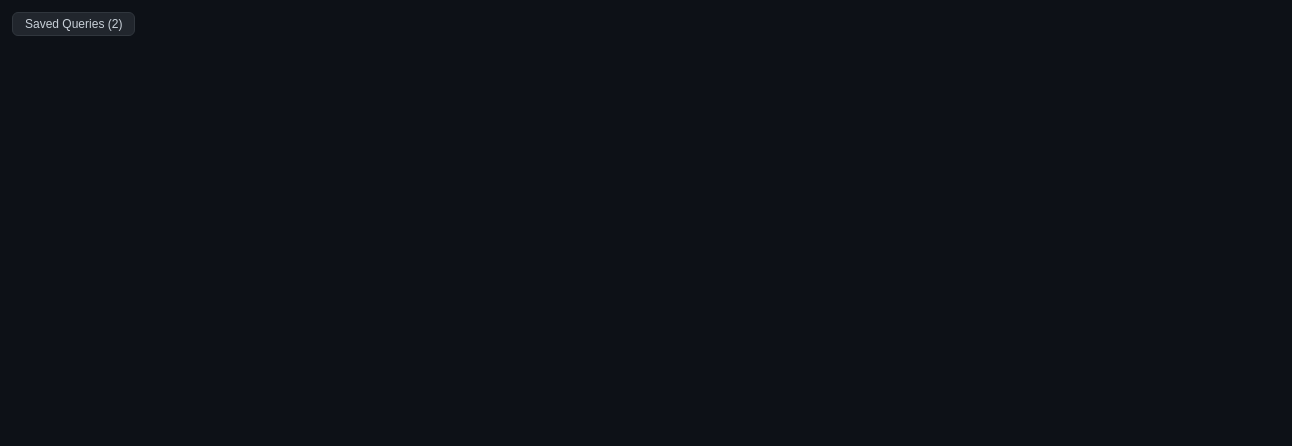
Test: SavedQueriesPanel (queries-ui) › rendering › renders the panel header with a close button when opened
Click the button "Saved Queries (2)".
click(74, 24)  # box [12, 12, 135, 36]
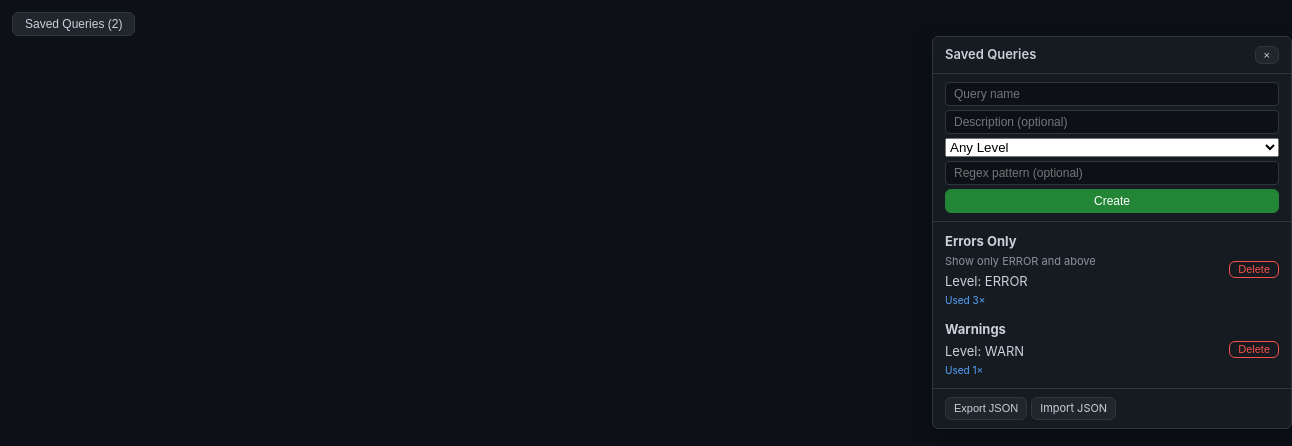
Now the heading "Saved Queries" is shown, box [945, 45, 1036, 64]
Now the button "×" is shown, box [1255, 46, 1279, 64]
